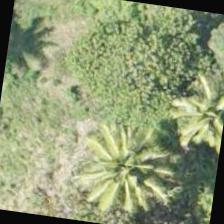Kelapa_Sawit: (72, 109, 174, 211), (159, 61, 223, 160)
